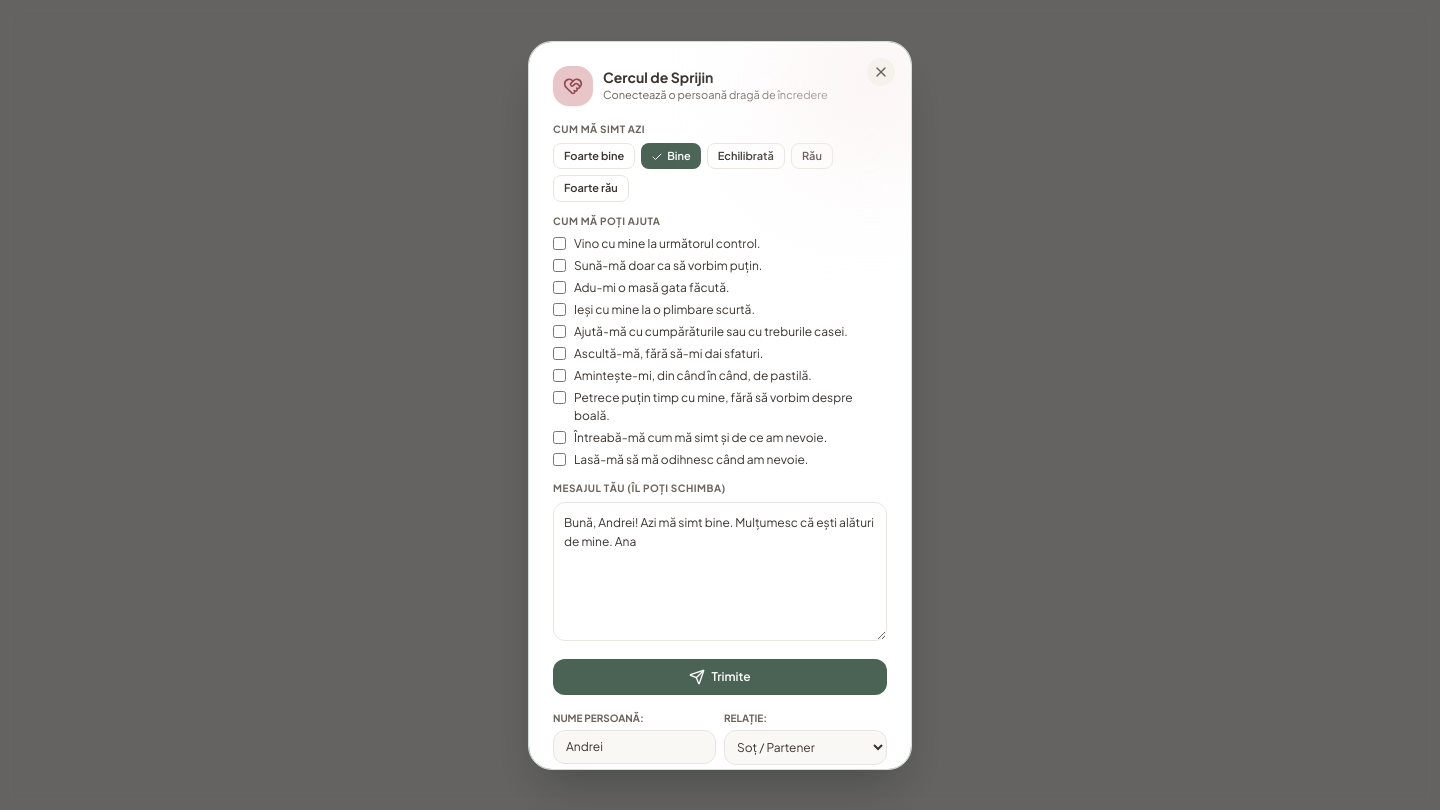
Test: Cercul tău › schimbarea stării reface mesajul, peste textul editat
The width and height of the screenshot is (1440, 810).
Replace the text in the text box labelled "Mesajul tău (îl poți schimba)" with "Text scris de mine": (720, 571) [553,502,887,640]
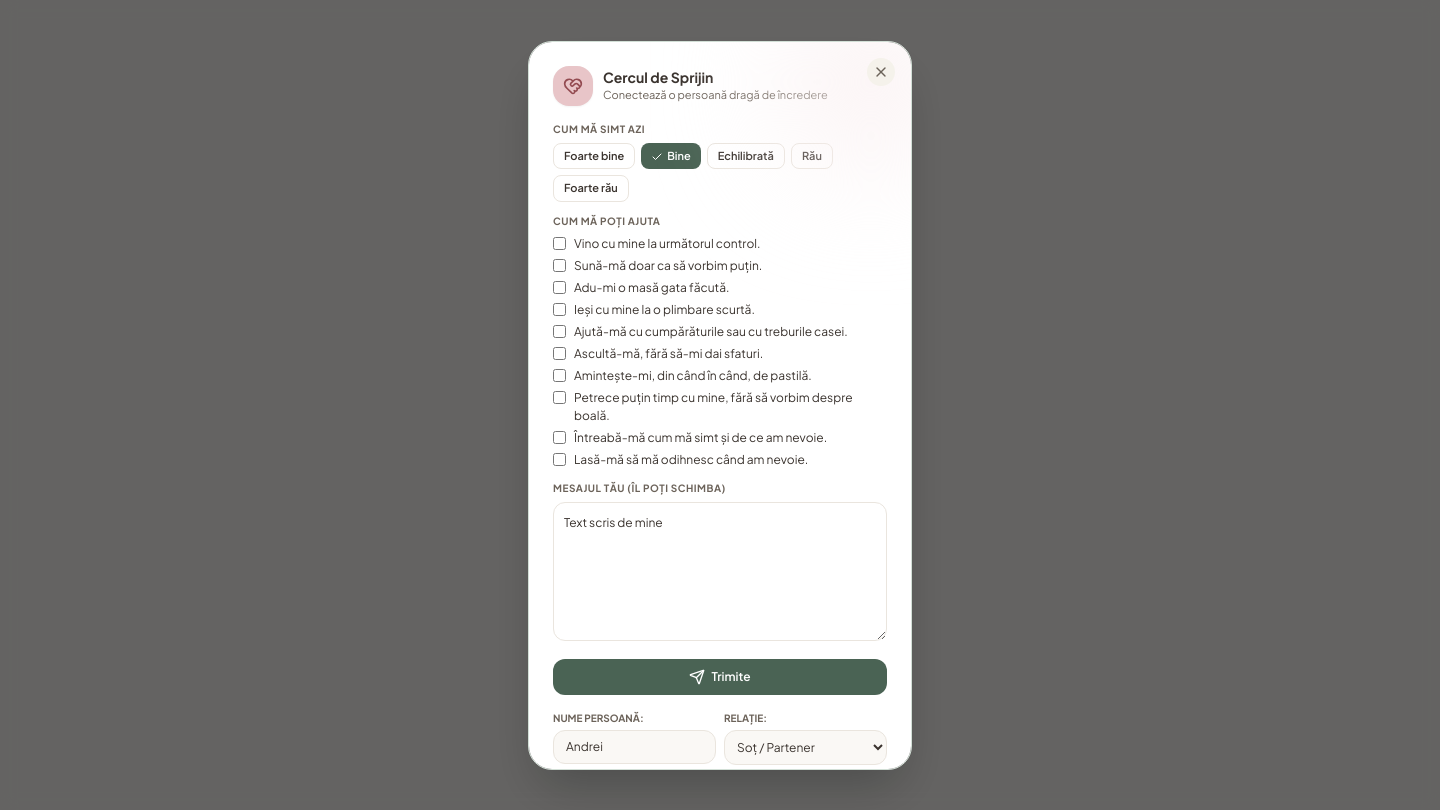
Click the button "Foarte bine": click(594, 156) [553,142,635,169]
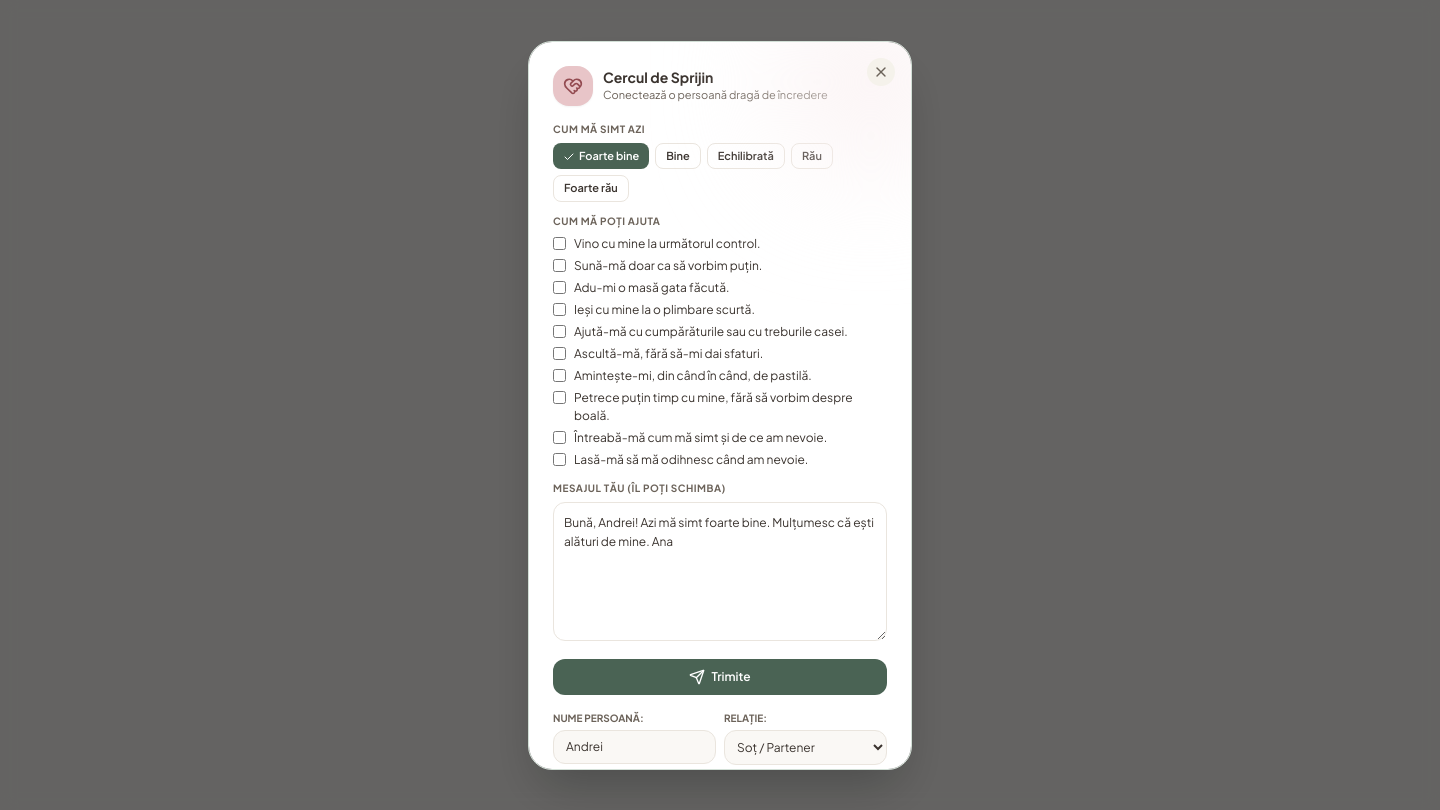
Check: the text box labelled "Mesajul tău (îl poți schimba)" holds "Bună, Andrei! Azi mă simt foarte bine. Mulțumesc că ești alături de mine. Ana", box [553,502,887,640]
